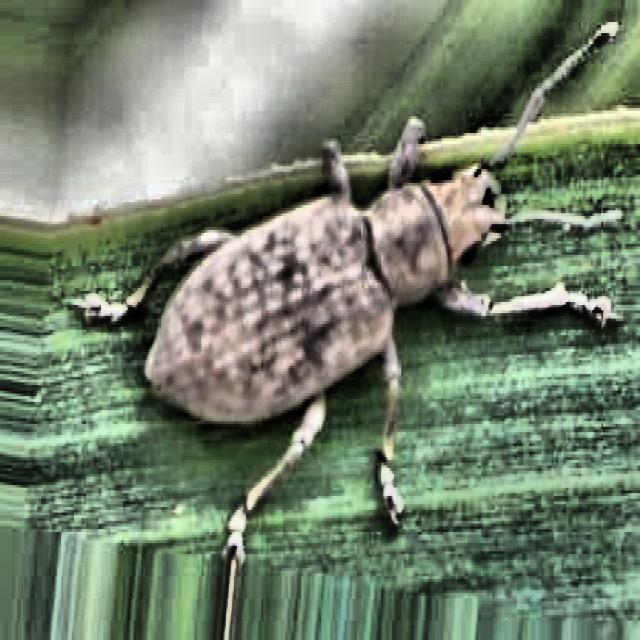Stink bug: (100, 104, 552, 492)
